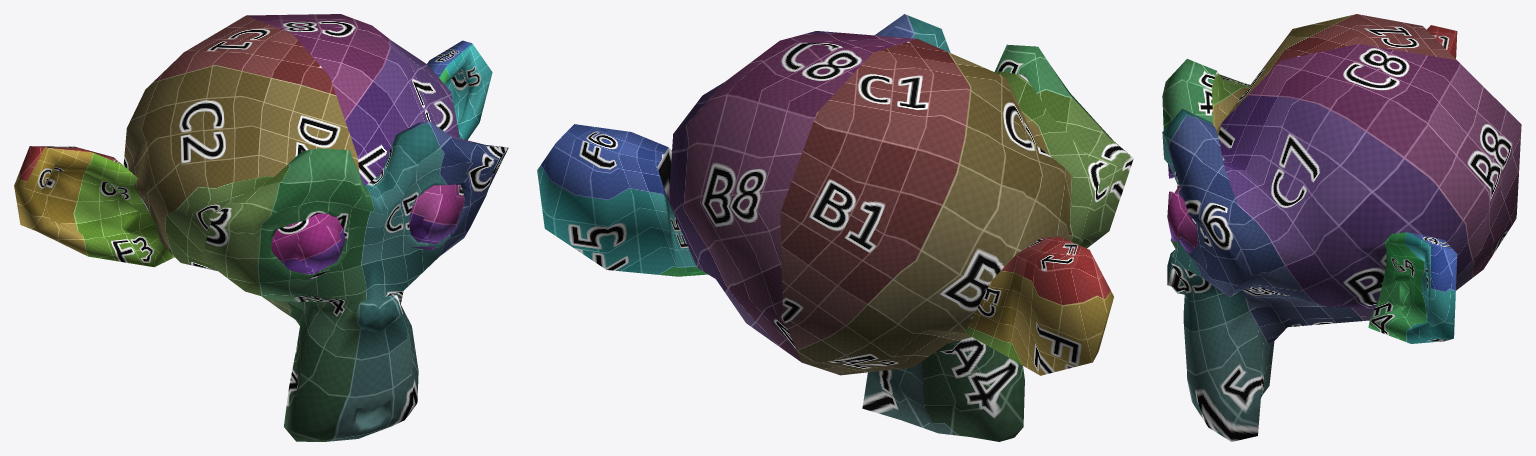
File: monkey.glb
The picture shows the model from 3 angles, left to right: view 1: azimuth 30°, elevation 25°; view 2: azimuth 150°, elevation 25°; view 3: azimuth 270°, elevation 25°; orthographic projection. The views are drawn at different scales.
Visible parts, largest first — view 1: Suzanne; view 2: Suzanne; view 3: Suzanne.
Boxes of the visible parts, box(x1,y1,x2,y2) form: Suzanne: box(14, 14, 508, 441); Suzanne: box(537, 14, 1133, 441); Suzanne: box(1162, 14, 1521, 441).
Size of the model in its own units: 2.73 by 1.97 by 1.7.
1 material, 1 textured.
